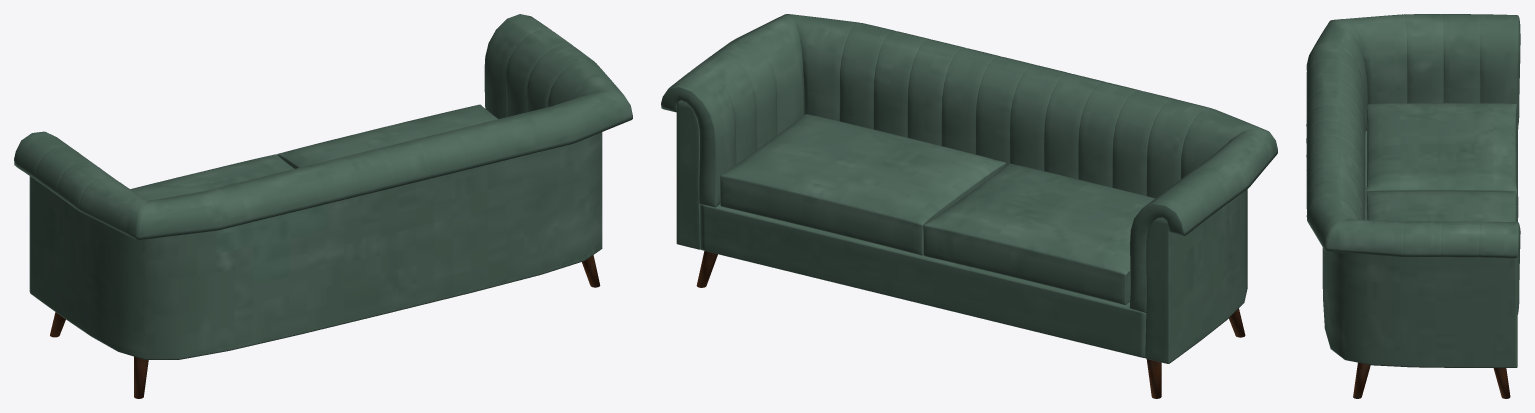
Rendered from Sofa16.glb.
3 views of the same model, side by side, from view 1: azimuth 30°, elevation 25°; view 2: azimuth 150°, elevation 25°; view 3: azimuth 270°, elevation 25° (orthographic). The views are drawn at different scales.
Parts seen in each view (by area): view 1: Sofa16_model; view 2: Sofa16_model; view 3: Sofa16_model.
Boxes of the visible parts, <box> form: Sofa16_model: <box>14,14,632,398</box>; Sofa16_model: <box>661,14,1277,398</box>; Sofa16_model: <box>1306,14,1520,398</box>.
Bounding box in the file's own units: 4.9 × 1.8 × 1.96.
Materials: 1 (1 with a texture image).
